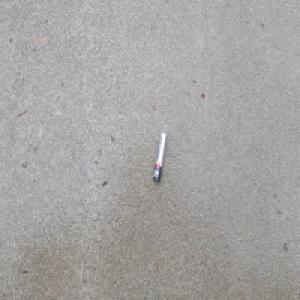Battery: (153, 130, 167, 183)
